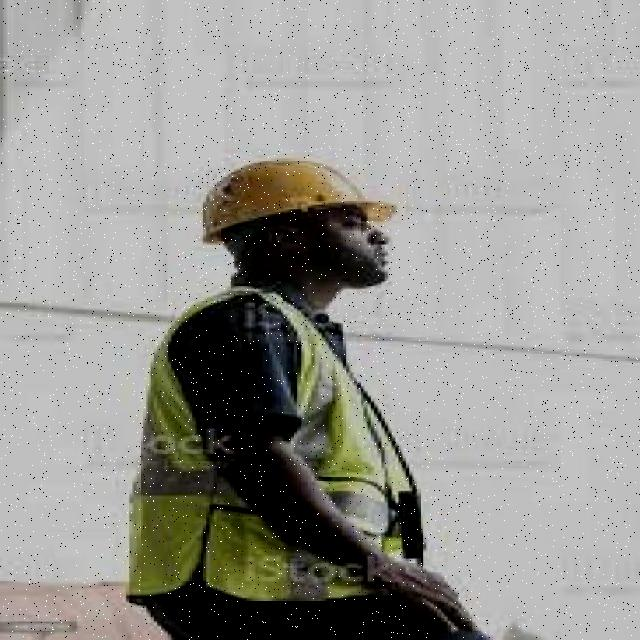Helmet: (195, 156, 398, 227)
Mask: (150, 284, 418, 610)
